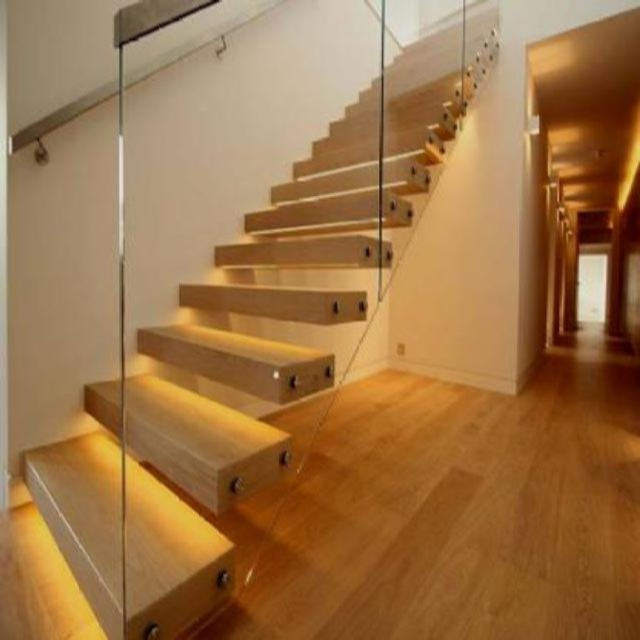stair: (1, 0, 507, 638)
